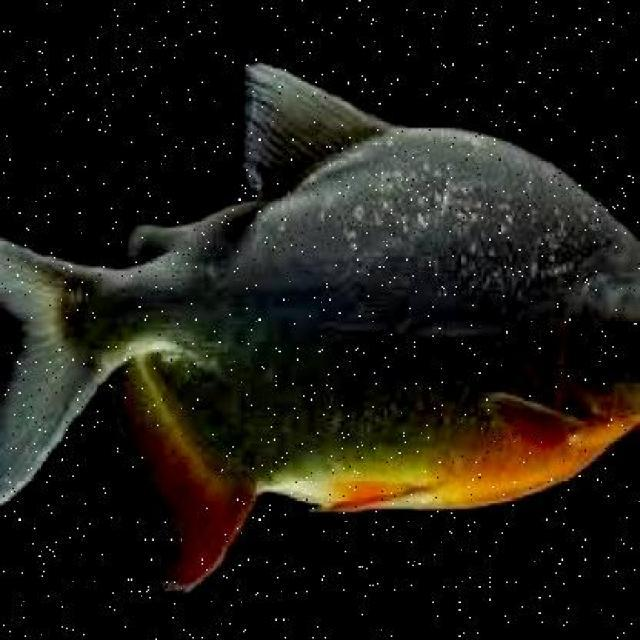ikan-pacu: (0, 102, 625, 570)
